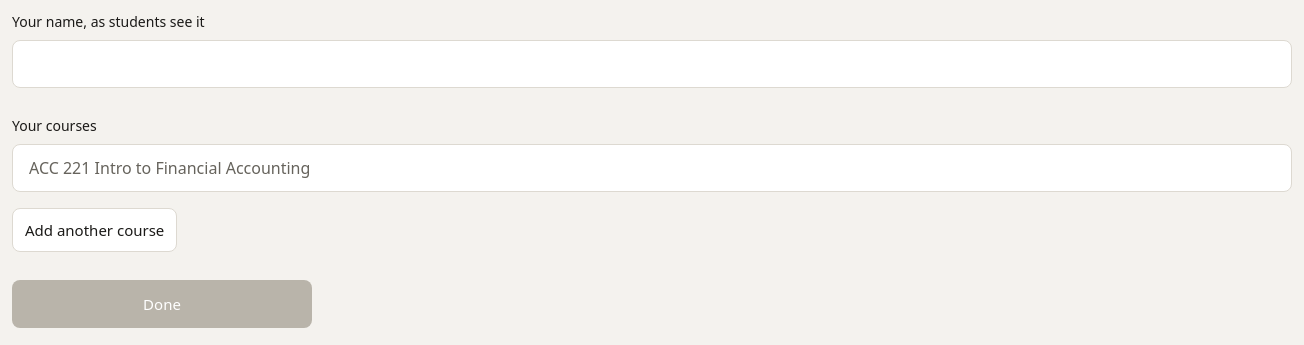
Test: SetupForm › keeps submit disabled until both the name and a course are filled
This screenshot has width=1304, height=345.
Expected: the button "Done" is disabled, top-left (12, 280), bottom-right (312, 328)
In the field labelled "Your name, as students see it": (652, 64) top-left (12, 40), bottom-right (1292, 88), type "Marko"
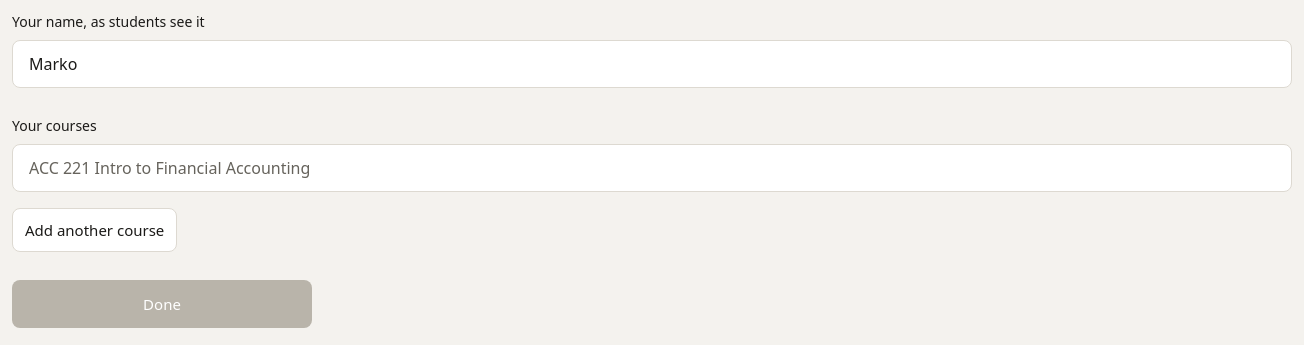
Expected: the button "Done" is disabled, top-left (12, 280), bottom-right (312, 328)
In the field named "Course": (652, 168) top-left (12, 144), bottom-right (1292, 192), type "IMS 452"
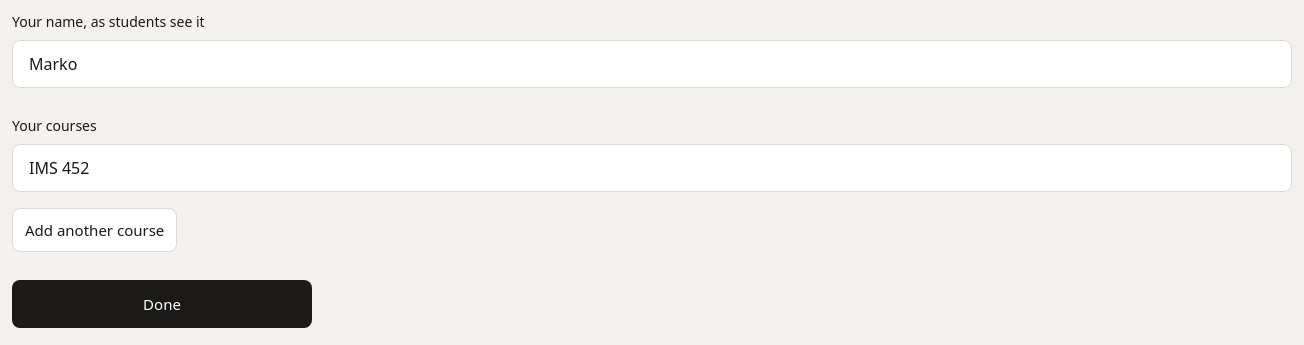
Result: the button "Done" is enabled at top-left (12, 280), bottom-right (312, 328)
